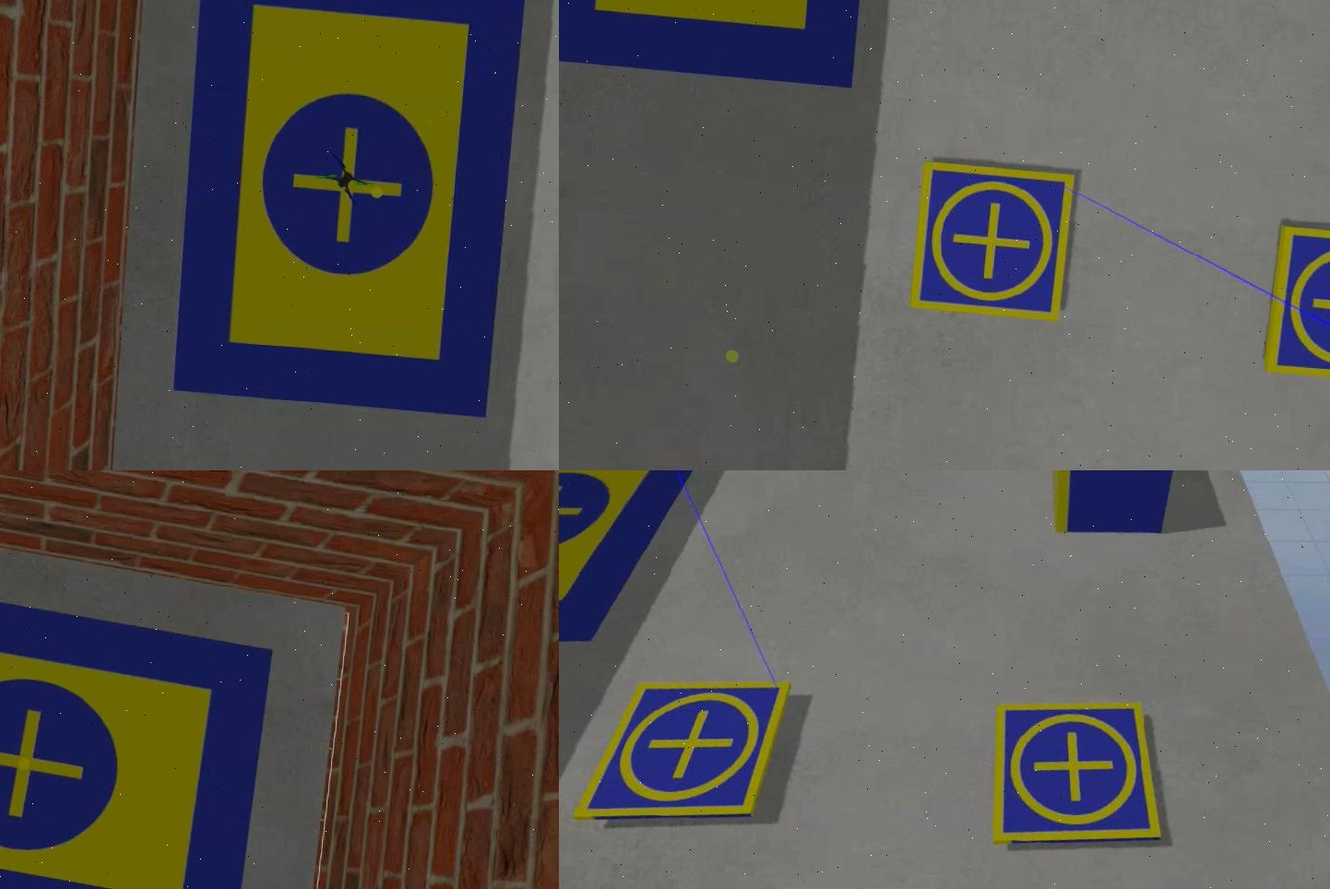large_base: (168, 1, 526, 422), (0, 571, 276, 889), (558, 471, 718, 660), (558, 1, 879, 91)
small_base: (569, 663, 789, 838), (986, 694, 1170, 854), (904, 163, 1074, 326), (1260, 221, 1328, 384)
